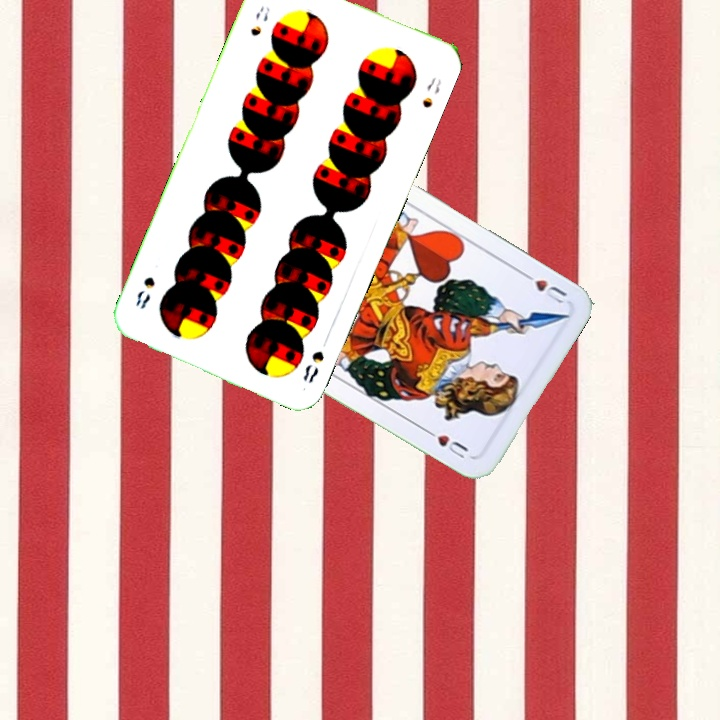HU: (517, 267, 570, 307)
S8: (298, 346, 327, 385), (246, 2, 273, 39)
